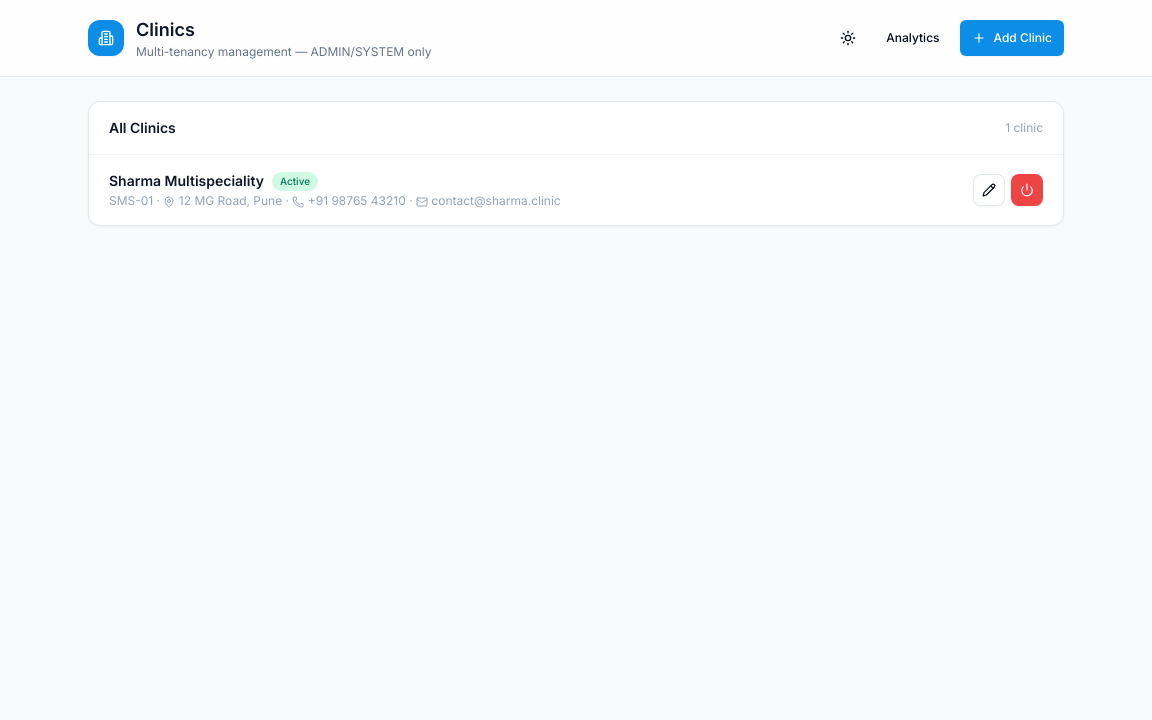
ClinicsPage › rejects a code shorter than 2 characters
Click the button "Add Clinic" at point(1012, 38), box left=960, top=20, right=1064, bottom=56
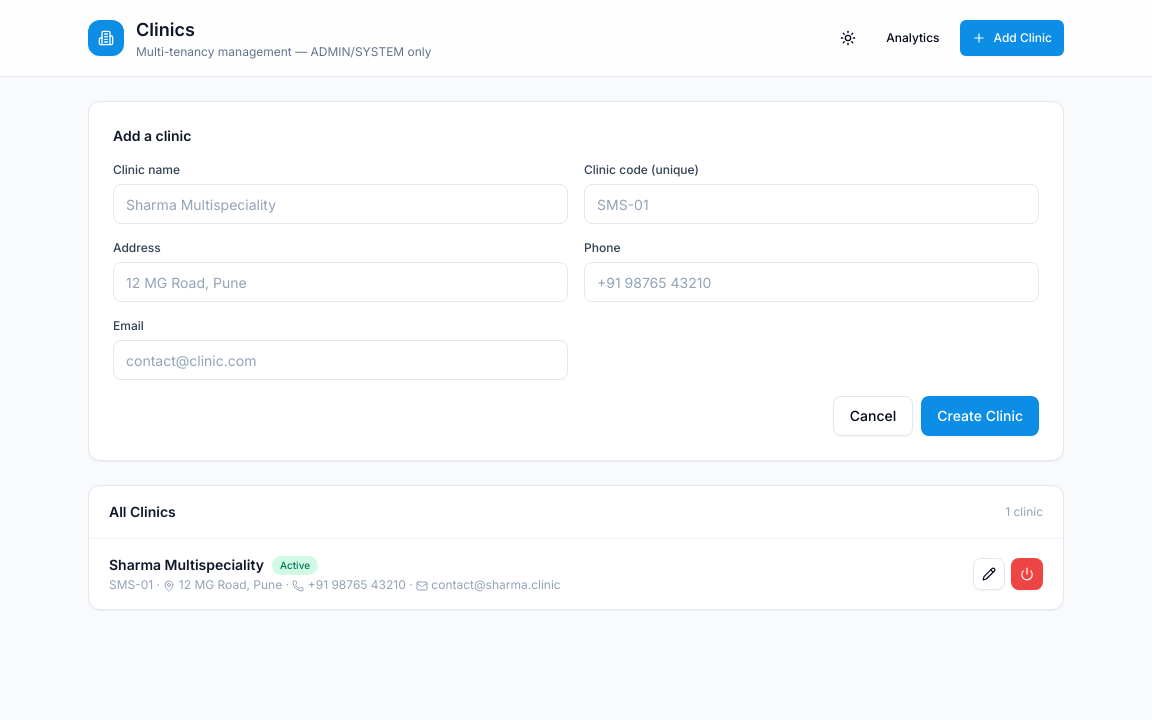
Type "X" into the field labelled "Clinic name" at point(340, 204), box left=113, top=184, right=568, bottom=224
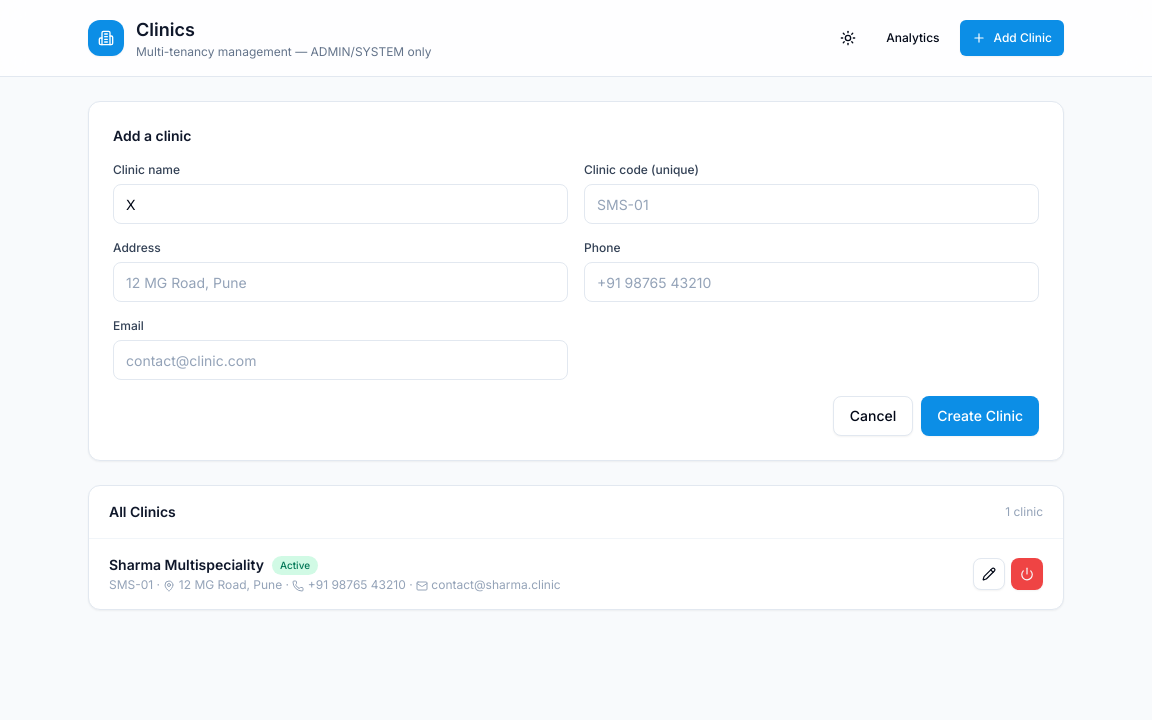
Type "A" into the field labelled "Clinic code (unique)" at point(812, 204), box left=584, top=184, right=1039, bottom=224
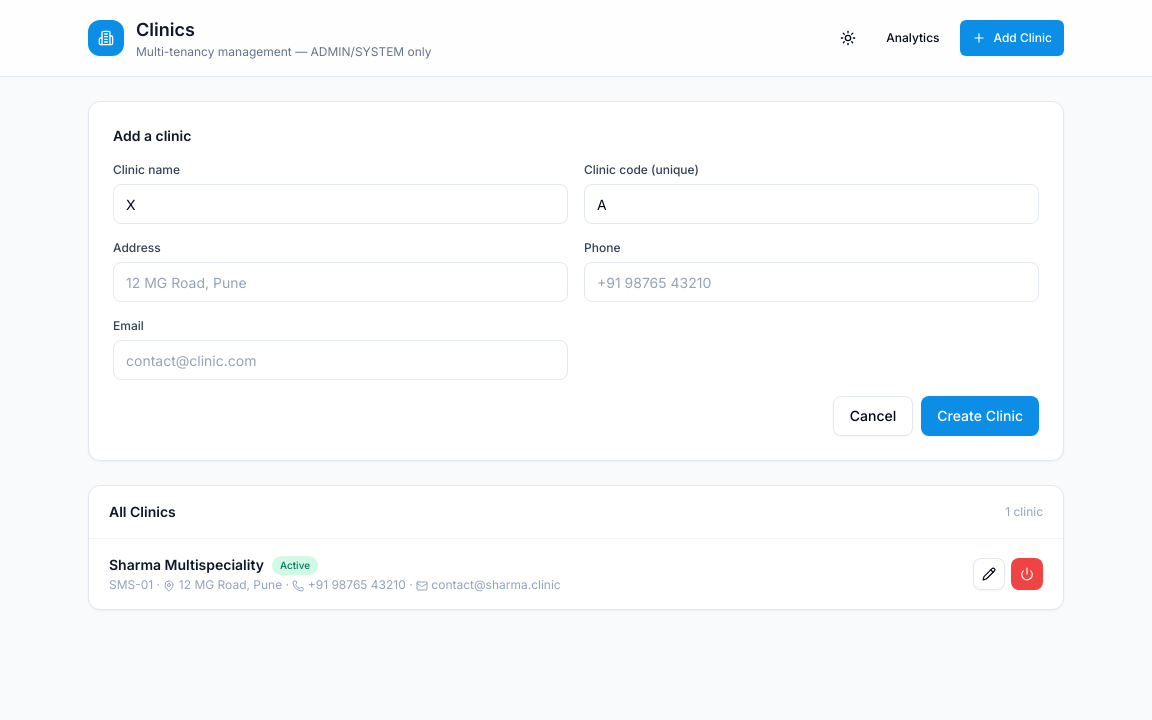
Click the button "Create Clinic" at point(980, 416), box left=921, top=396, right=1039, bottom=436
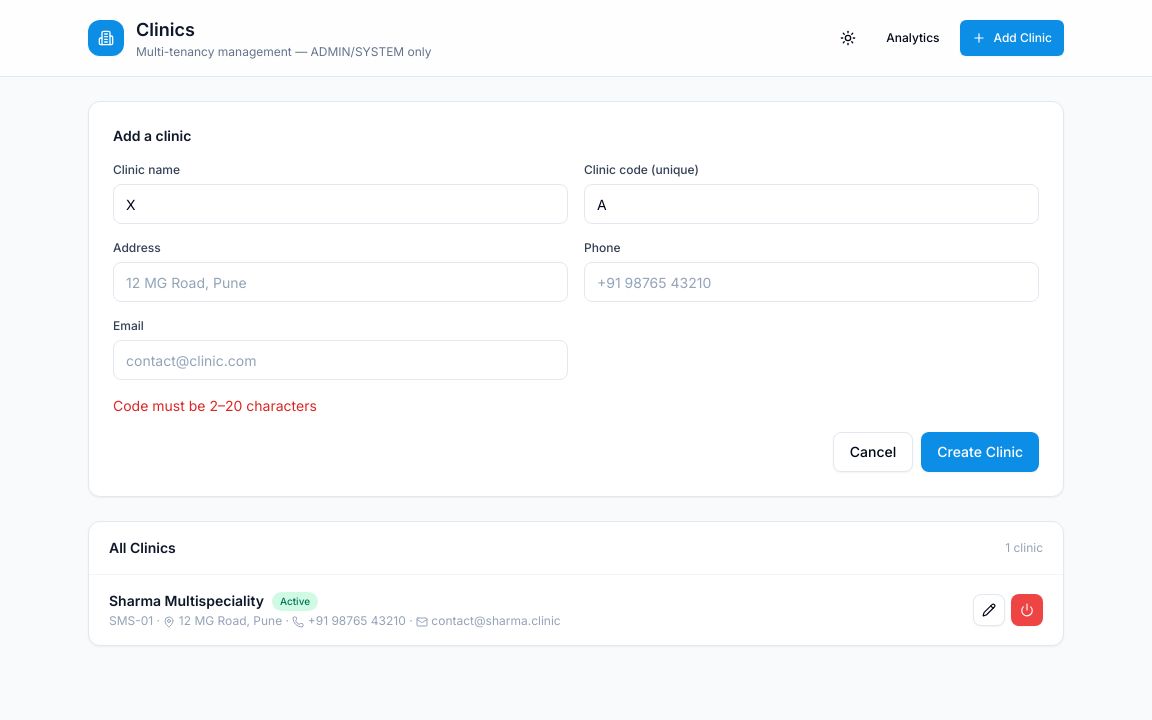
Now the text "Code must be 2–20 characters" is shown, box left=113, top=397, right=317, bottom=414
